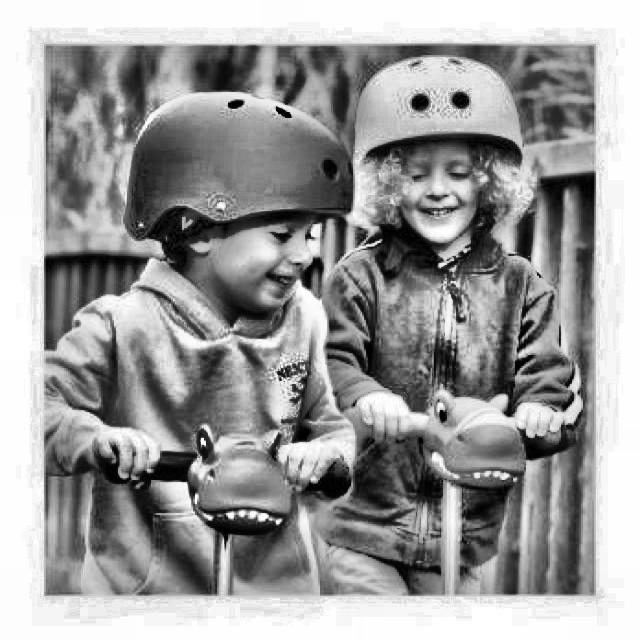Helmet: (120, 82, 359, 330), (352, 58, 538, 266)
